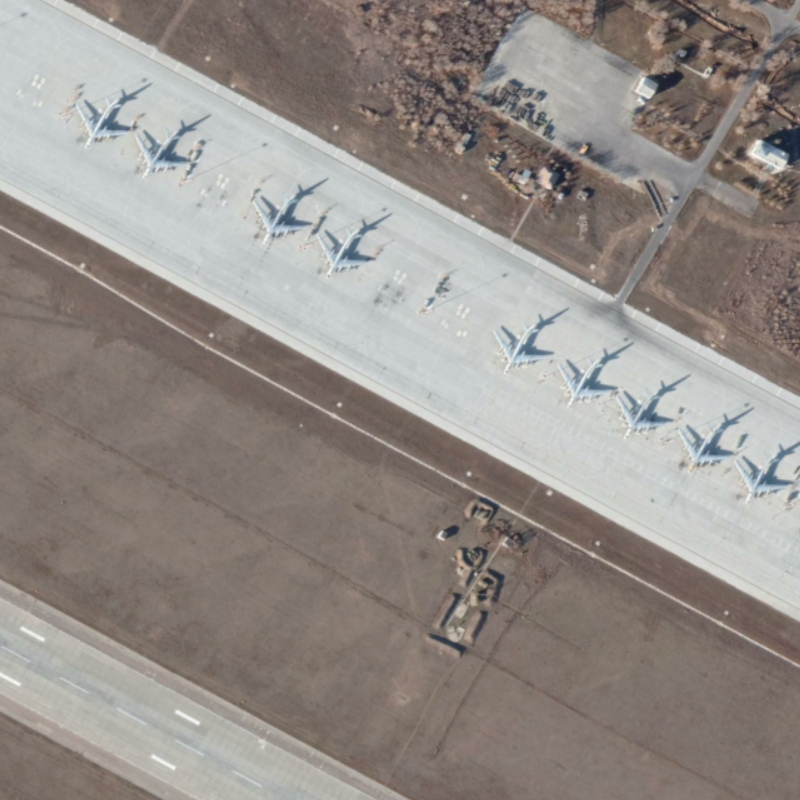A17: (248, 191, 319, 247), (134, 125, 202, 183), (317, 220, 380, 281), (489, 319, 556, 376), (614, 385, 679, 441), (674, 420, 739, 476), (734, 450, 797, 505), (73, 95, 134, 150), (556, 353, 613, 410)
